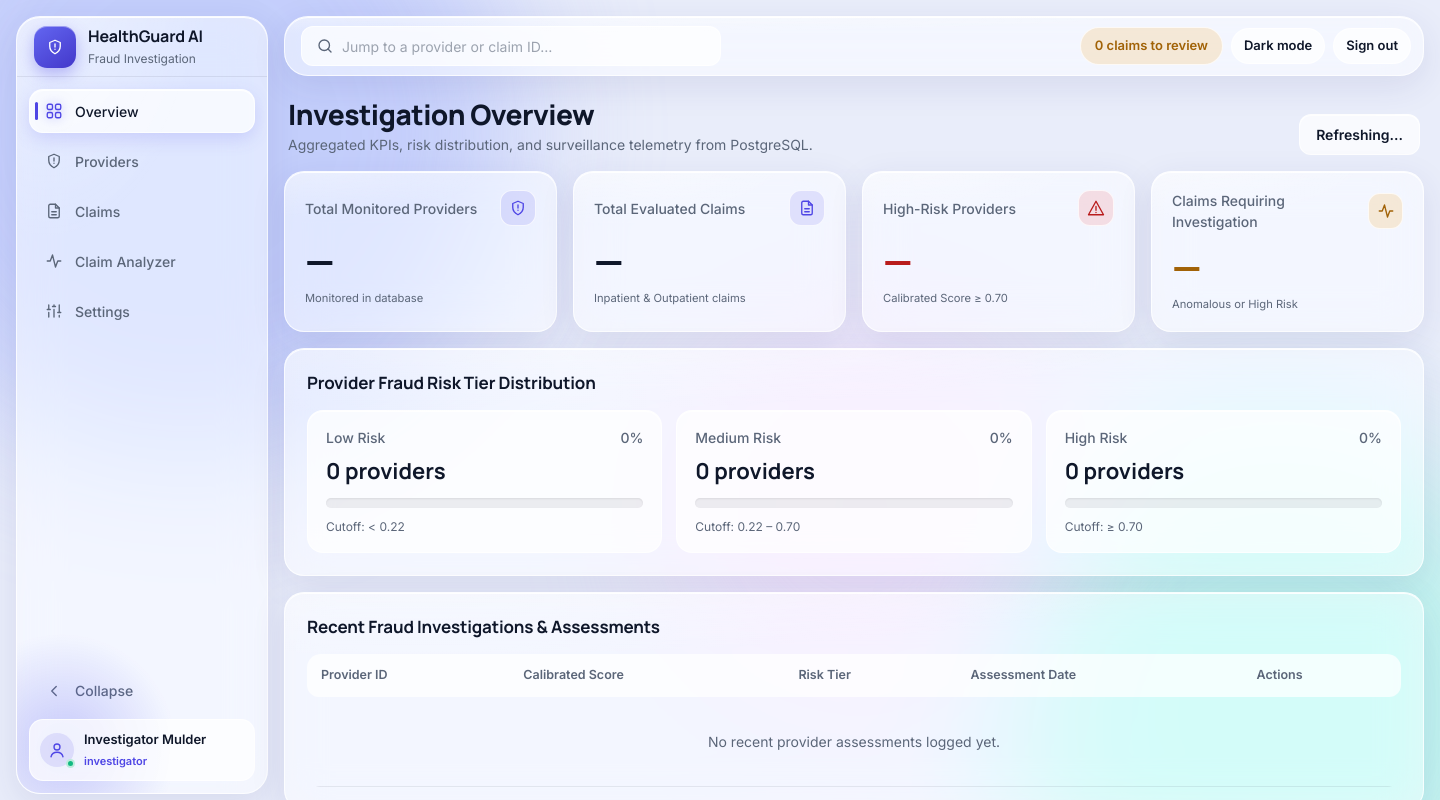
Scenario: HealthGuard AI Frontend Integration Tests › Claim Fraud Analyzer Probability & Risk Tier Validation › renders Claim Analyzer result with provider_risk_score and provider_risk_tier and avoids NaN%
Check: the text "Investigator Mulder" is shown, box [84, 730, 206, 749]
Click Claim Analyzer tab
Step 1. Click the button "Claim Analyzer" → click(142, 261), box [29, 239, 255, 283]
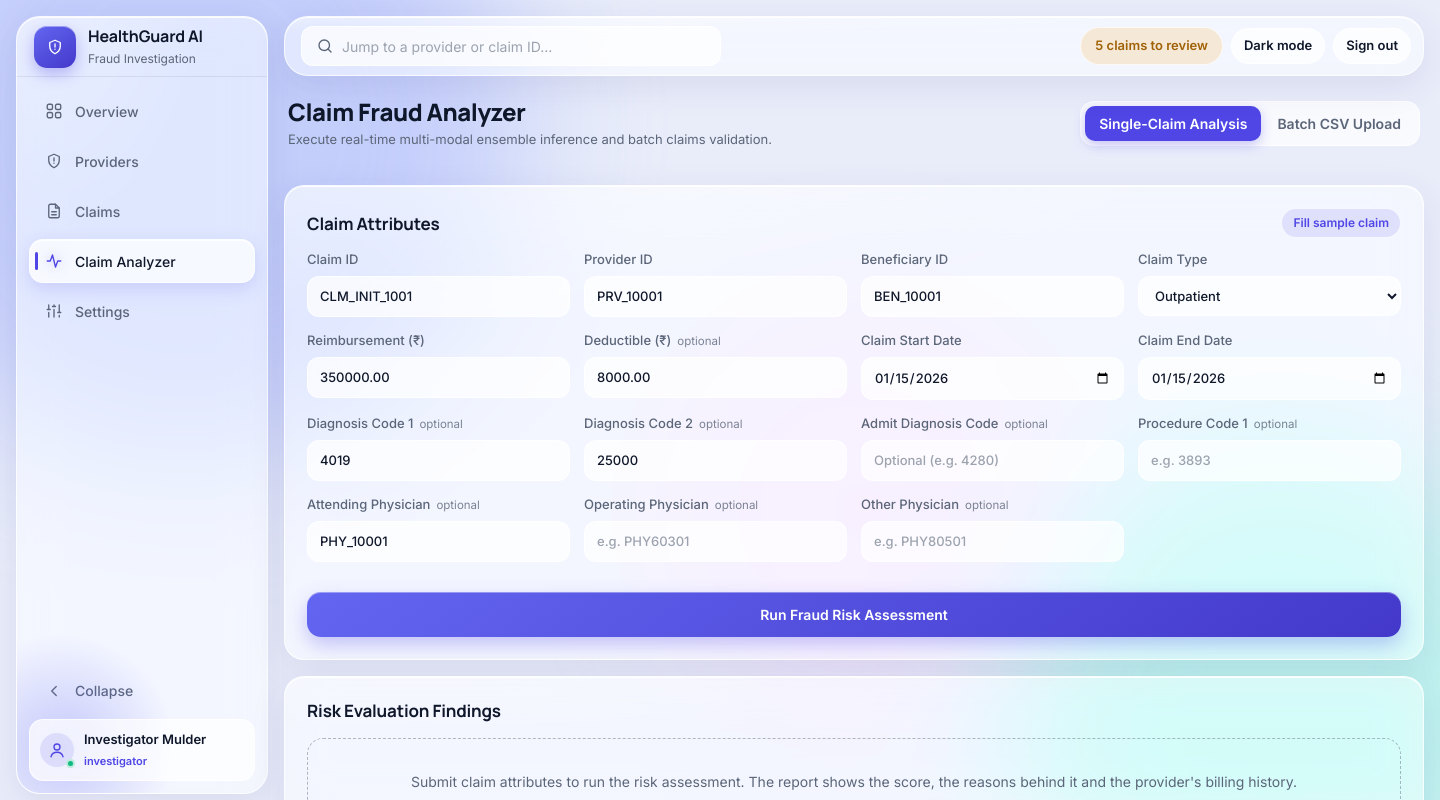
Click Run Assessment button
Step 2. Click the button "Run Fraud Risk Assessment" → click(854, 615), box [307, 592, 1401, 637]
(page scrolled)
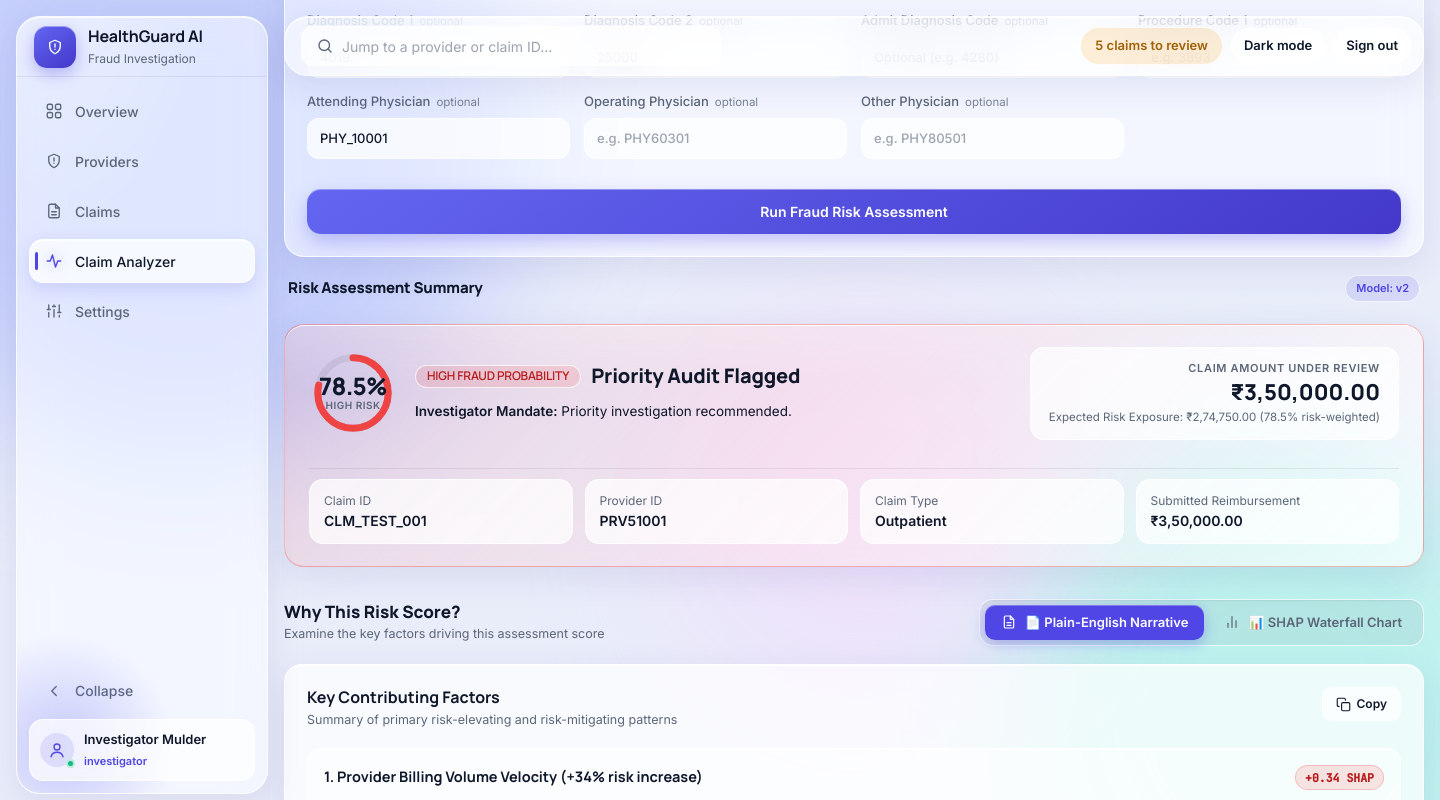
Check: the text with test id "risk-score-value" reads "78.5%", box [319, 369, 387, 402]
Check: the text with test id "risk-tier-badge" reads "HIGH RISK", box [326, 399, 380, 411]
